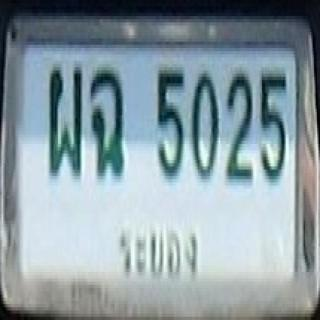A09: (86, 59, 130, 184)
A28: (42, 59, 87, 182)
N00: (190, 67, 222, 185)
N02: (221, 68, 257, 181)
N05: (149, 60, 188, 179), (255, 68, 291, 185)
P53: (111, 220, 205, 281)
